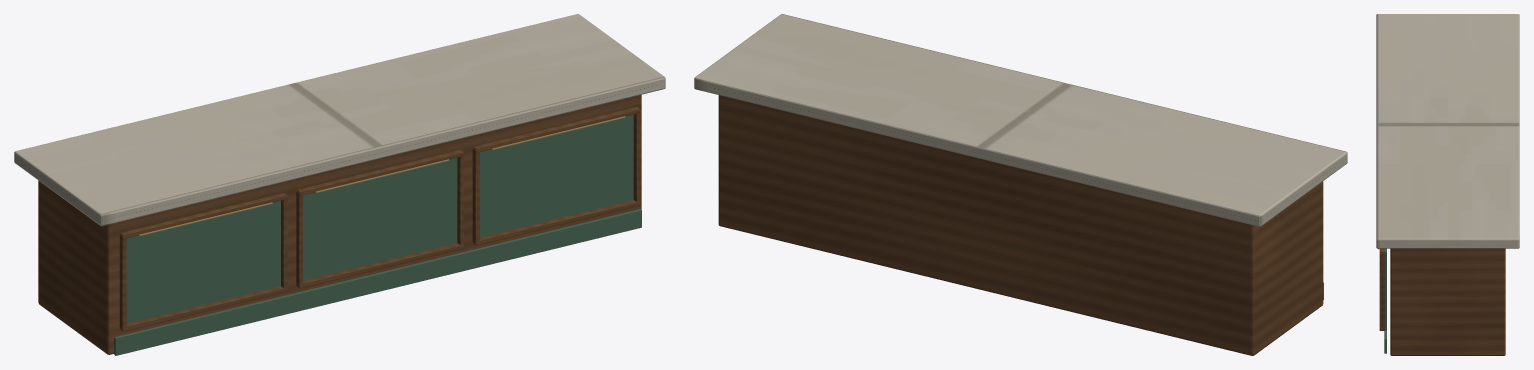
The model's file is merchant-counter.glb.
The picture shows the model from 3 angles, left to right: view 1: azimuth 30°, elevation 25°; view 2: azimuth 150°, elevation 25°; view 3: azimuth 270°, elevation 25°; orthographic projection. The views are drawn at different scales.
Visible parts, largest first — view 1: Limestone counter surface, Merchant counter carcass, Recessed front panel, Recessed front panel.001, Recessed front panel.002, Kickboard, Raised walnut rail, Raised walnut rail.004, Raised walnut rail.002, Raised walnut rail.001, Raised walnut rail.003, Raised walnut rail.005 (+6 smaller); view 2: Merchant counter carcass, Limestone counter surface; view 3: Limestone counter surface, Merchant counter carcass, Raised walnut stile.005, Recessed front panel.002.
Part boxes in pixels (x1,y1,x2,y2): Limestone counter surface: (14, 14, 665, 226); Merchant counter carcass: (38, 94, 641, 354); Recessed front panel: (126, 201, 280, 323); Recessed front panel.001: (303, 158, 457, 280); Recessed front panel.002: (479, 115, 633, 237); Kickboard: (114, 209, 641, 355); Raised walnut rail: (120, 286, 286, 331); Raised walnut rail.004: (473, 200, 639, 245); Raised walnut rail.002: (297, 243, 463, 288); Raised walnut rail.001: (120, 193, 286, 238); Raised walnut rail.003: (296, 150, 463, 195); Raised walnut rail.005: (473, 107, 639, 152); Merchant counter carcass: (718, 95, 1323, 355); Limestone counter surface: (694, 14, 1347, 226); Limestone counter surface: (1376, 14, 1519, 248); Merchant counter carcass: (1390, 248, 1505, 355); Raised walnut stile.005: (1379, 253, 1384, 329); Recessed front panel.002: (1384, 248, 1386, 330).
Size of the model in its own units: 3.65 by 0.9325 by 0.98.
Materials: 5 (2 with a texture image).
